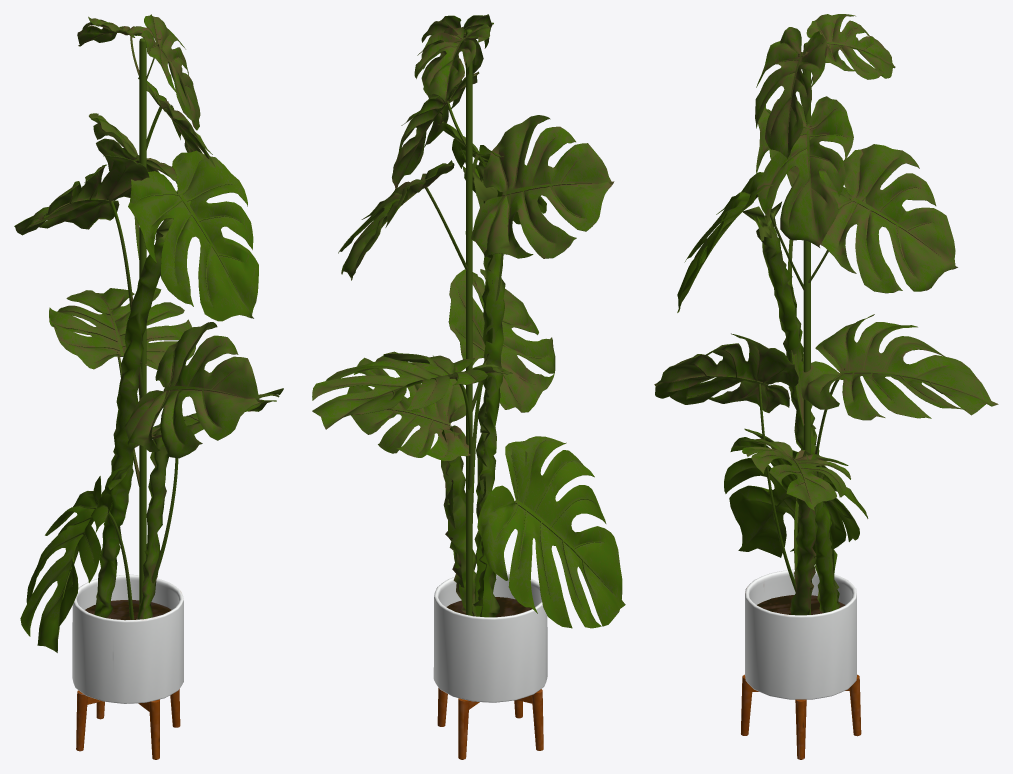
Rendered from plant.glb.
3 views of the same model, side by side, from view 1: azimuth 30°, elevation 25°; view 2: azimuth 150°, elevation 25°; view 3: azimuth 270°, elevation 25° (orthographic).
Visible parts, largest first — view 1: PottedMonsteraPlantTurnedWoodPlanterWideWhite_PottedMonstera; view 2: PottedMonsteraPlantTurnedWoodPlanterWideWhite_PottedMonstera; view 3: PottedMonsteraPlantTurnedWoodPlanterWideWhite_PottedMonstera.
Boxes of the visible parts, left/top/right/bottom form: PottedMonsteraPlantTurnedWoodPlanterWideWhite_PottedMonstera: left=14, top=14, right=283, bottom=759; PottedMonsteraPlantTurnedWoodPlanterWideWhite_PottedMonstera: left=312, top=14, right=625, bottom=759; PottedMonsteraPlantTurnedWoodPlanterWideWhite_PottedMonstera: left=654, top=14, right=998, bottom=759.
Bounding box in the file's own units: 0.4472 × 1.22 × 0.5308.
1 material, 1 textured.
